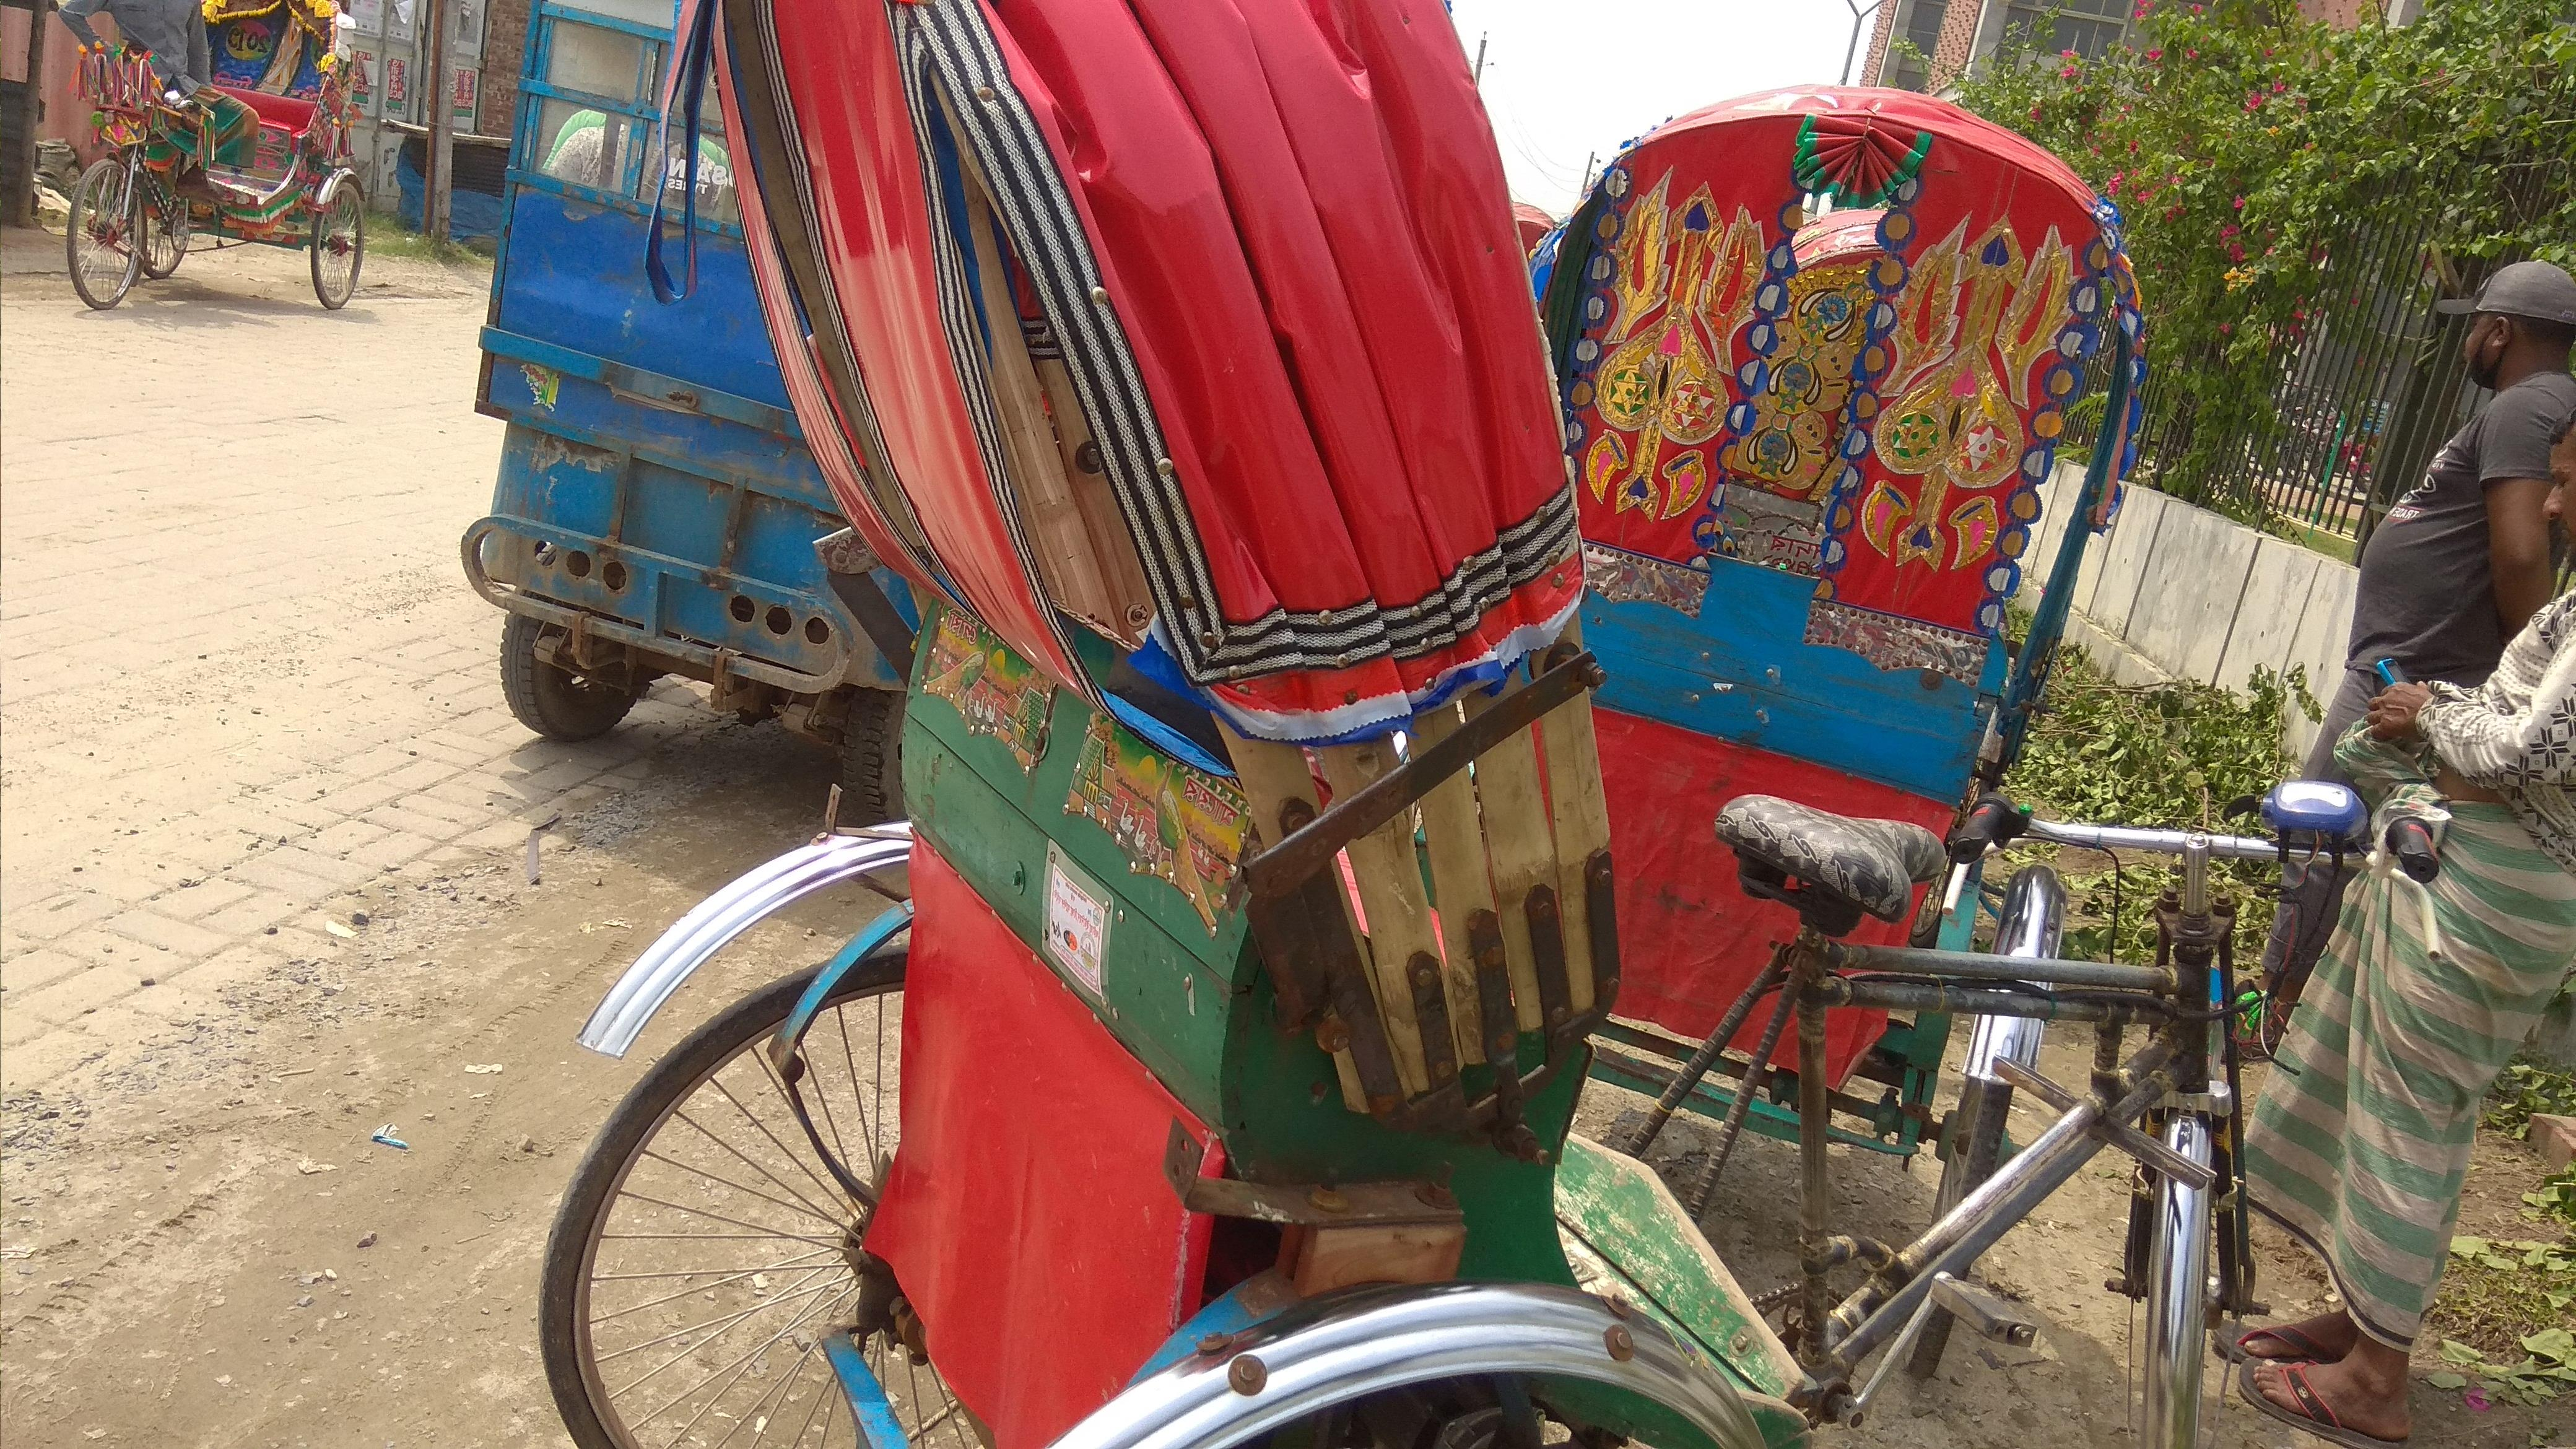Rickshaw: (495, 9, 2339, 1440), (1513, 55, 2144, 1237), (58, 4, 402, 331)
